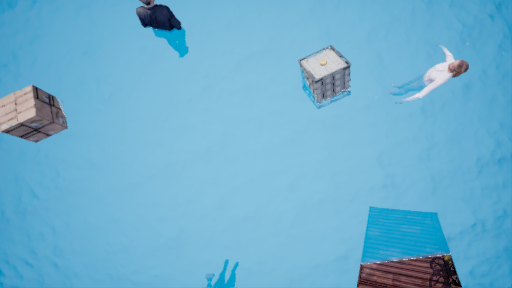person: (395, 44, 466, 109), (138, 1, 193, 60)
